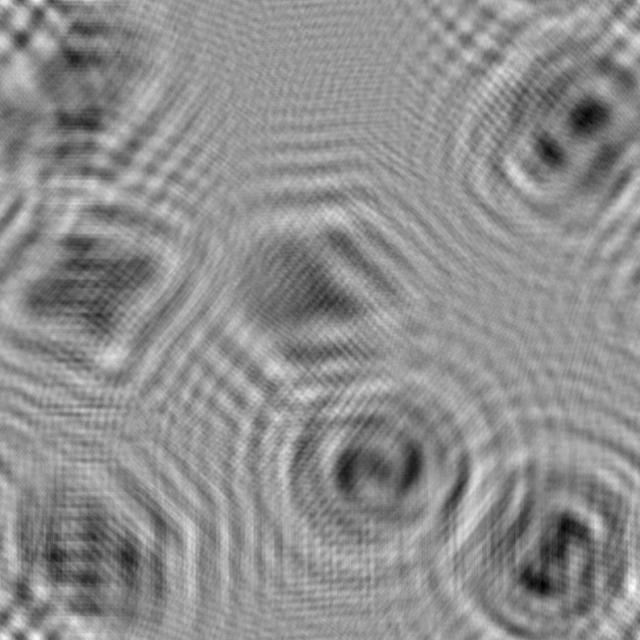B: (412, 385, 640, 640)
N: (0, 424, 230, 640)
R: (437, 0, 640, 283)
S: (193, 323, 531, 605)
V: (170, 139, 451, 411)
X: (0, 148, 244, 430)
Z: (0, 0, 209, 207)
